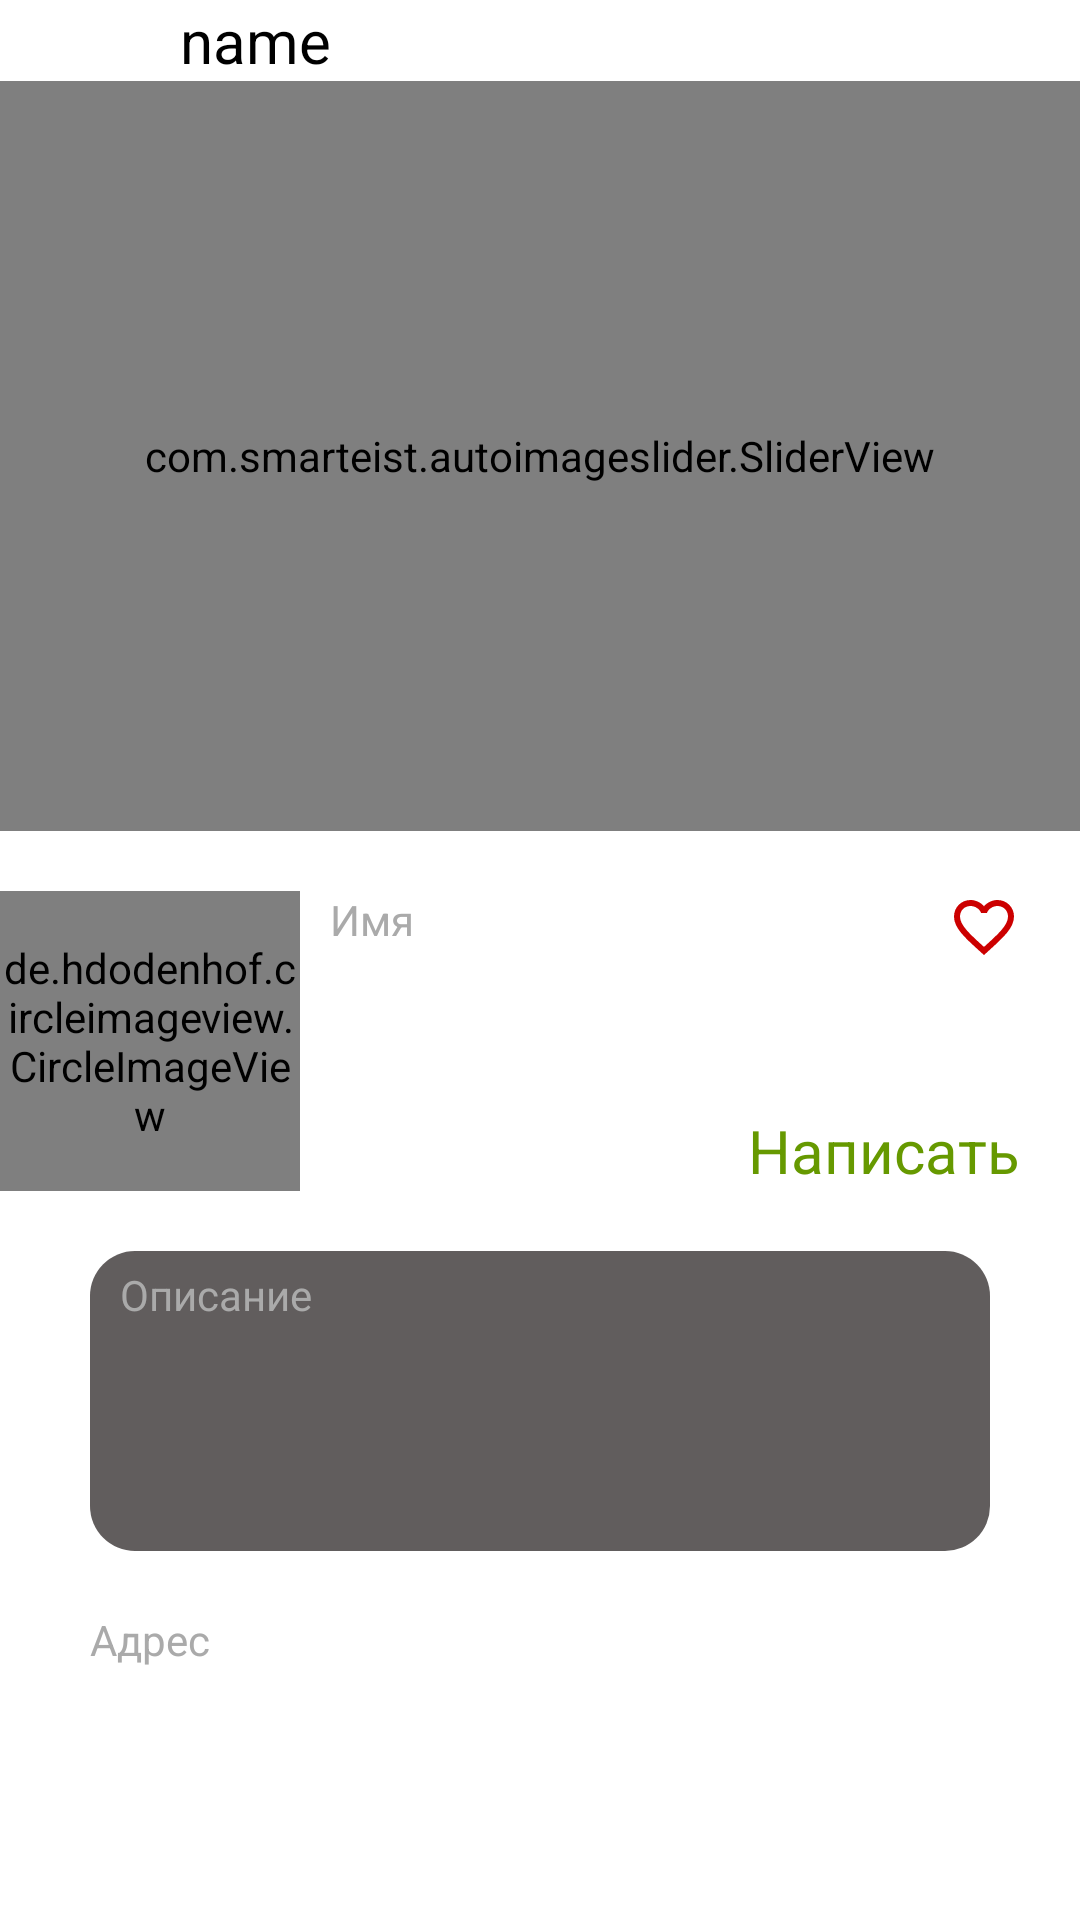

Where icons sit on this 1080 x 1920 app screen, as (x1=x1, y1=y1, x2=x2, y2=y2):
favorite border: (x1=954, y1=900, x2=1014, y2=955)
